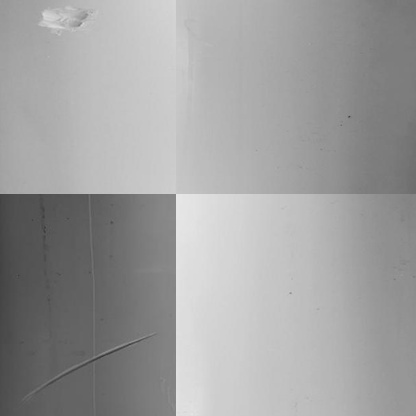sunshang: (17, 332, 161, 401), (37, 2, 95, 40)
